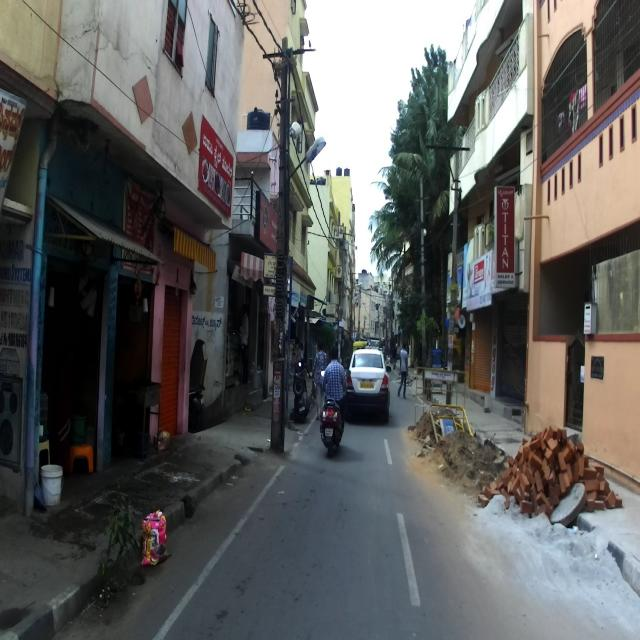car: (344, 345, 392, 424)
scooter: (319, 369, 351, 458), (288, 359, 314, 426)
